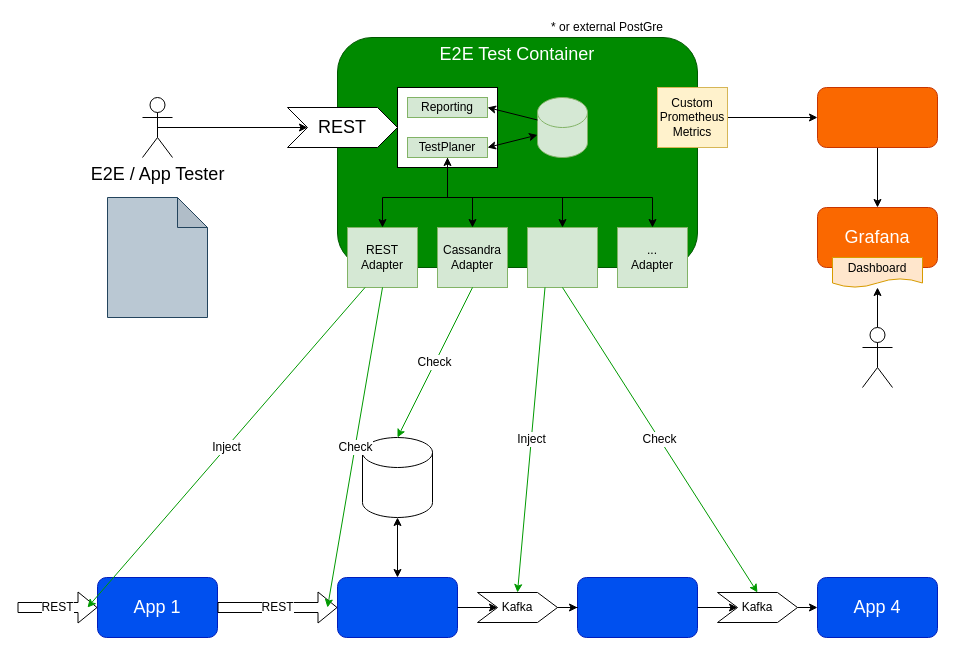
This 955x655 diagram has some shape labels left out. Here are the shapes that lost their labels. From the top down, the box of each, then its label:
(536, 96, 588, 158): H2 *
(816, 86, 938, 148): Prometheus
(106, 196, 208, 318): Declared Test Case
(526, 226, 598, 288): Kafka Adapter
(862, 326, 892, 388): Quality Check
(362, 436, 432, 518): Cassandra
(336, 576, 458, 638): App 2
(576, 576, 698, 638): App 3
